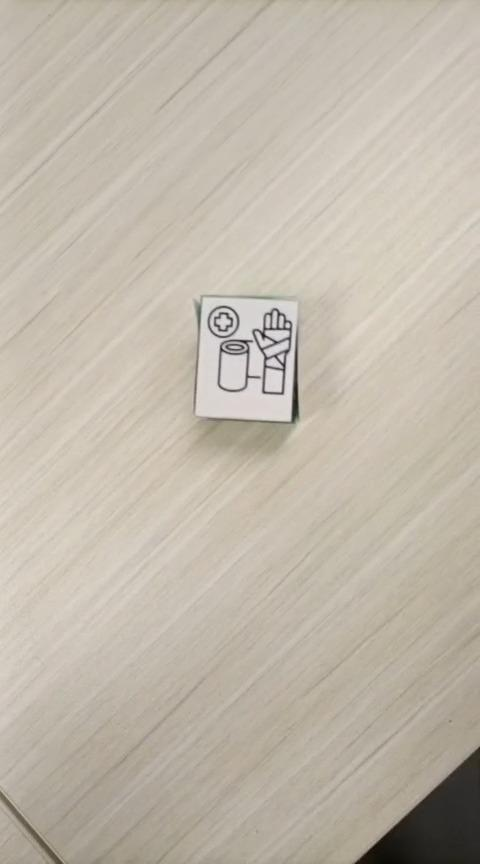Bandages: (193, 293, 298, 423)
